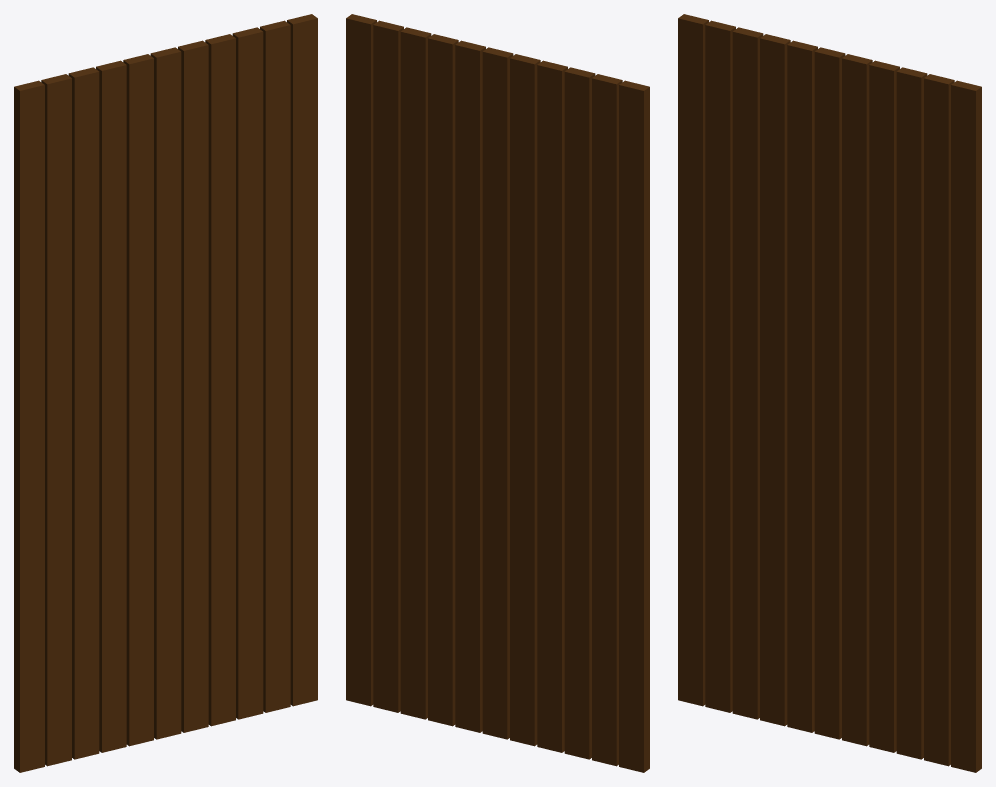
The model's file is Wood Slat Door.glb.
The picture shows the model from 3 angles, left to right: view 1: azimuth 30°, elevation 25°; view 2: azimuth 150°, elevation 25°; view 3: azimuth 330°, elevation 25°; orthographic projection.
Parts seen in each view (by area): view 1: Wood Door; view 2: Wood Door; view 3: Wood Door.
Boxes of the visible parts, bbox=[...] form: Wood Door: bbox=[14, 14, 317, 772]; Wood Door: bbox=[346, 14, 649, 772]; Wood Door: bbox=[678, 14, 981, 772].
Bounding box in the file's own units: 0.9814 × 2.15 × 0.0339.
